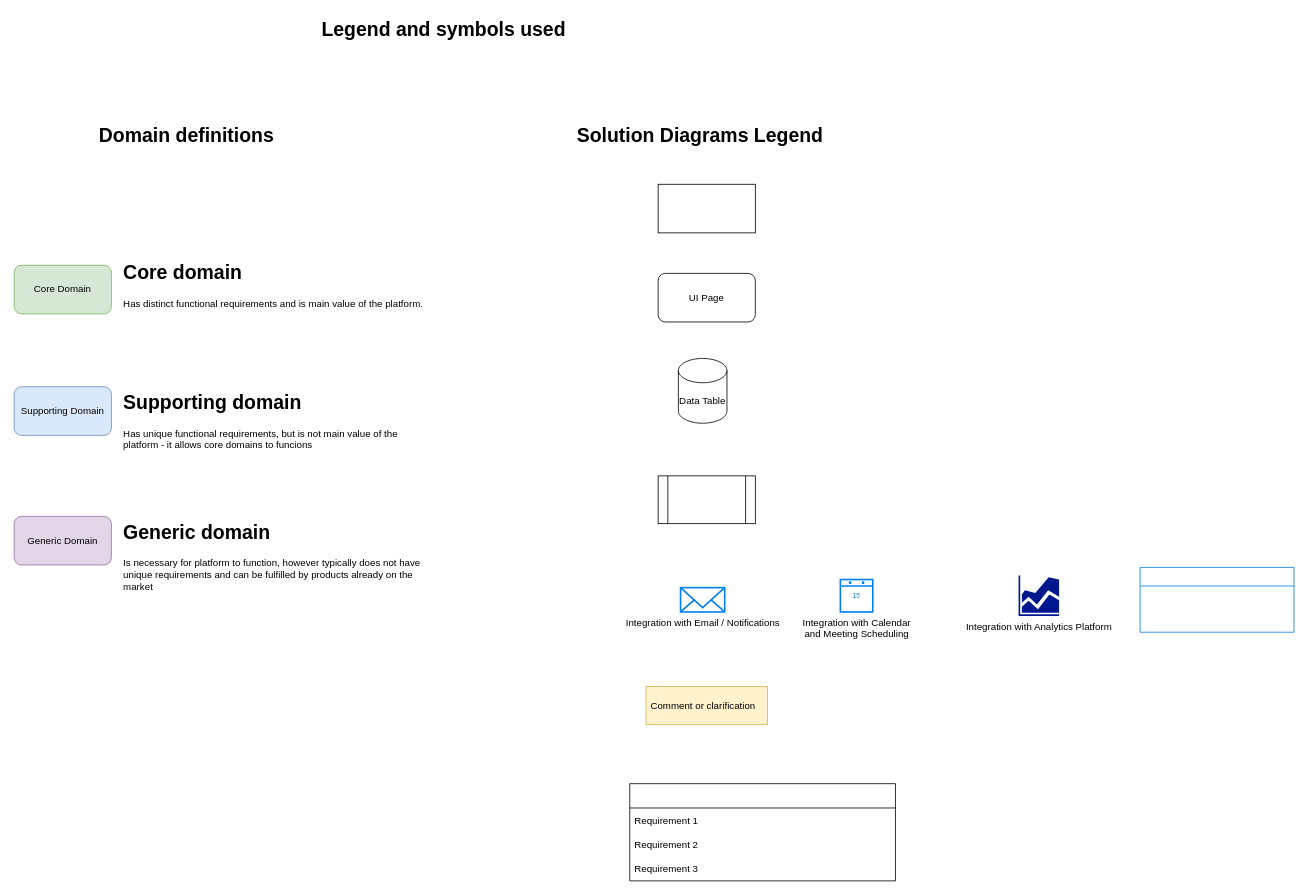
Some shapes in this 1308 by 895 pixel diagram are drawn without their labels. Each missing label, with the box of its shape:
Alternative Implementations: (1139, 567, 1294, 632)
Event: (657, 475, 755, 524)
Microservice: (657, 183, 755, 233)
Specific requirements or attributes: (629, 783, 895, 881)
